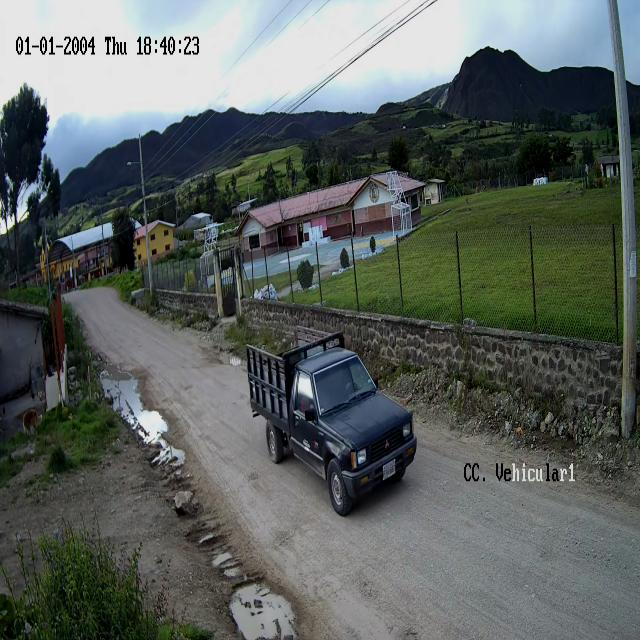CMT: (247, 327, 417, 516)
